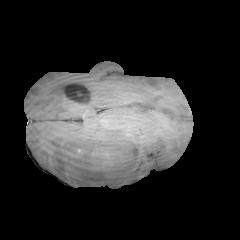glioma: (52, 127, 141, 187)
